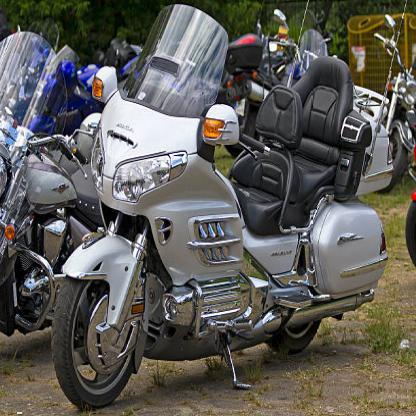Motorcycle: (47, 59, 385, 402)
